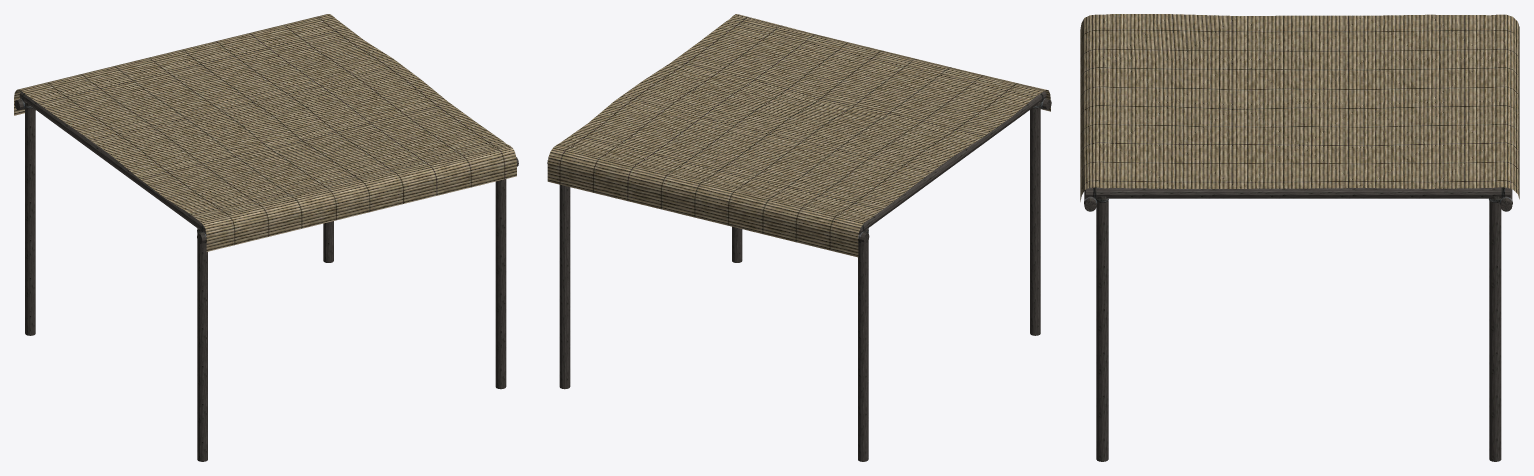
Rendered from pp2_kakechaya.glb.
3 views of the same model, side by side, from view 1: azimuth 30°, elevation 25°; view 2: azimuth 150°, elevation 25°; view 3: azimuth 270°, elevation 25° (orthographic). The views are drawn at different scales.
Parts seen in each view (by area): view 1: kakechaya; view 2: kakechaya; view 3: kakechaya.
Boxes of the visible parts, <box> form: kakechaya: <box>14,14,518,461</box>; kakechaya: <box>547,14,1051,461</box>; kakechaya: <box>1080,14,1519,461</box>.
Size of the model in its own units: 4.24 by 3.1 by 4.47.
Materials: 2 (2 with a texture image).
